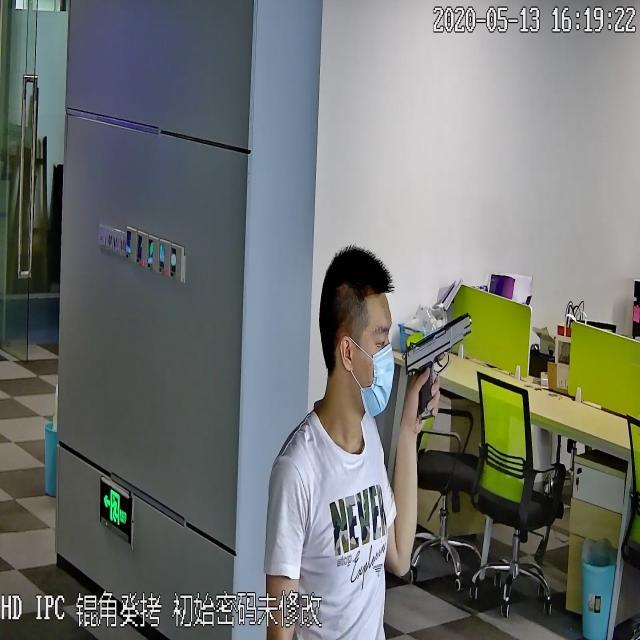gun: (401, 302, 475, 427)
